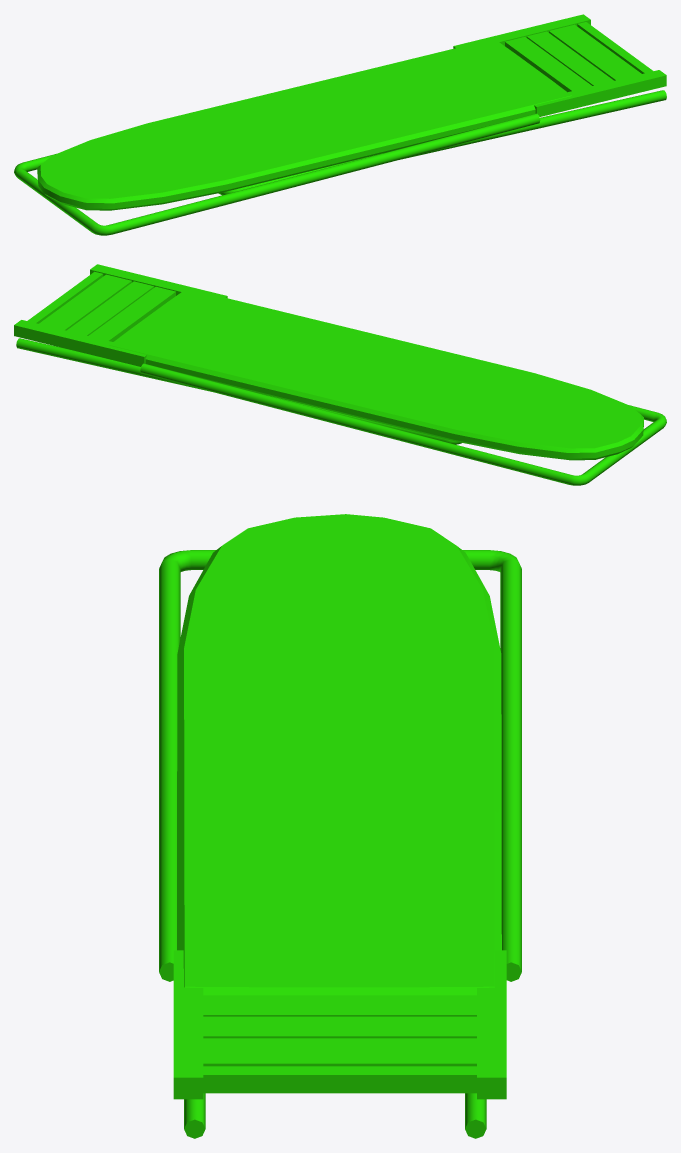
File: Ironing_Board_01_Close_Lod0.fbx
The picture shows the model from 3 angles, top to bottom: view 1: azimuth 30°, elevation 25°; view 2: azimuth 150°, elevation 25°; view 3: azimuth 270°, elevation 25°; orthographic projection. The views are drawn at different scales.
Parts seen in each view (by area): view 1: Ironing_Board_01_Close_Lod0; view 2: Ironing_Board_01_Close_Lod0; view 3: Ironing_Board_01_Close_Lod0.
Part boxes in pixels (bbox=[...]): Ironing_Board_01_Close_Lod0: bbox=[14, 14, 666, 235]; Ironing_Board_01_Close_Lod0: bbox=[14, 264, 666, 485]; Ironing_Board_01_Close_Lod0: bbox=[159, 514, 521, 1138].
Bounding box in the file's own units: 168 × 8.2 × 45.43.
